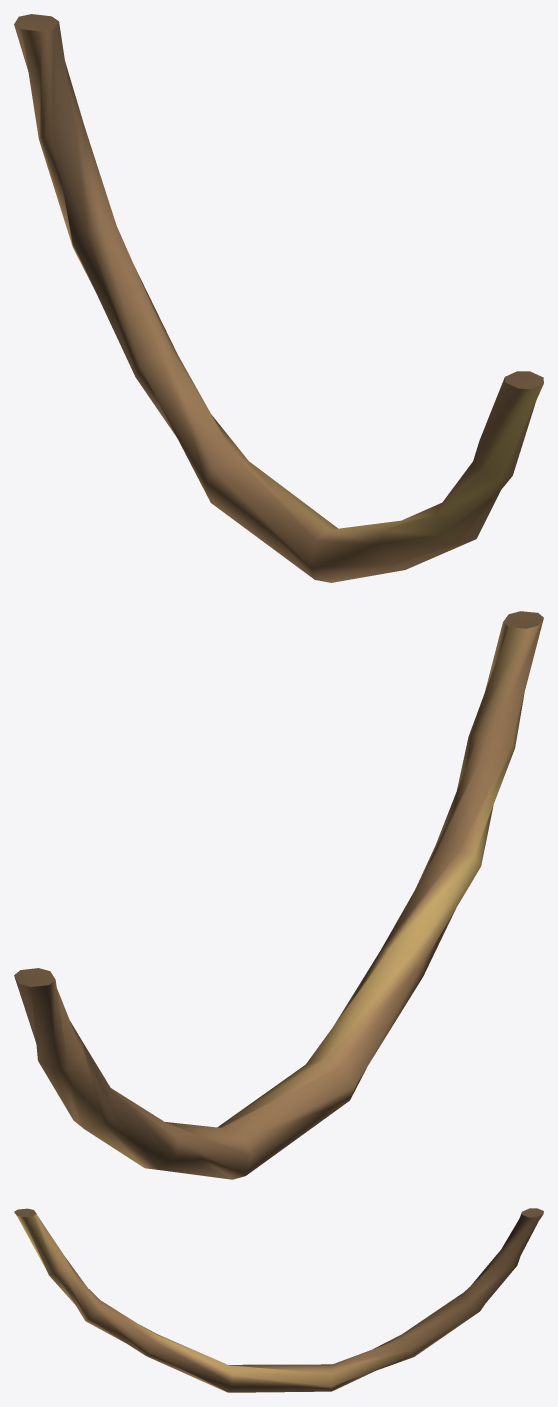
The model's file is vine_big_curve_brown_LOD_group.fbx.
3 views of the same model, one above another, from view 1: azimuth 30°, elevation 25°; view 2: azimuth 150°, elevation 25°; view 3: azimuth 270°, elevation 25° (orthographic). The views are drawn at different scales.
Visible parts, largest first — view 1: vine_horizontal_curve_big_brown_LOD0; view 2: vine_horizontal_curve_big_brown_LOD0; view 3: vine_horizontal_curve_big_brown_LOD0.
Boxes of the visible parts, <box> form: vine_horizontal_curve_big_brown_LOD0: <box>14,14,543,582</box>; vine_horizontal_curve_big_brown_LOD0: <box>14,611,543,1179</box>; vine_horizontal_curve_big_brown_LOD0: <box>14,1208,543,1392</box>.
Size of what is drawn, in the model's own units: 16.63 by 114 by 305.
Materials: 1 (1 with a texture image).
